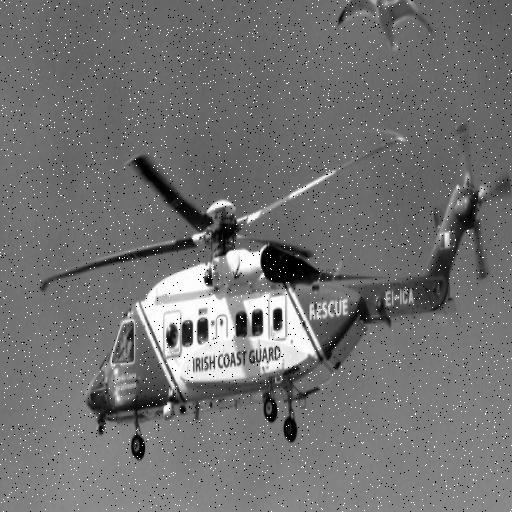helicopter: (26, 111, 512, 484)
